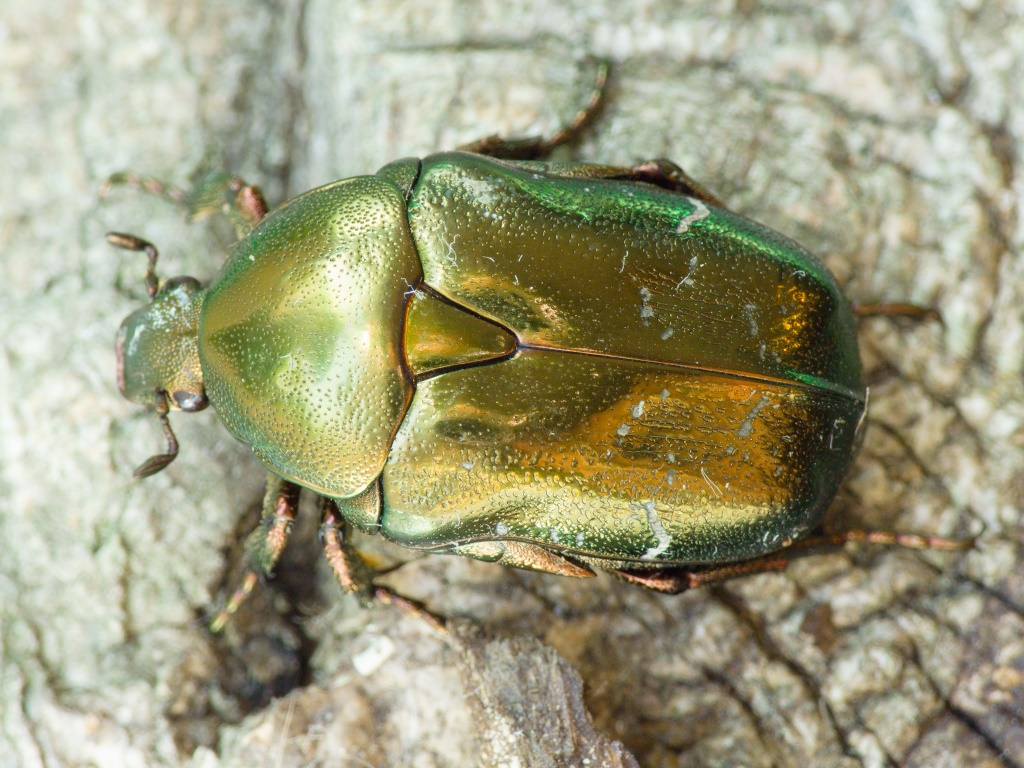Protaetia_fieberi: (88, 54, 985, 636)
